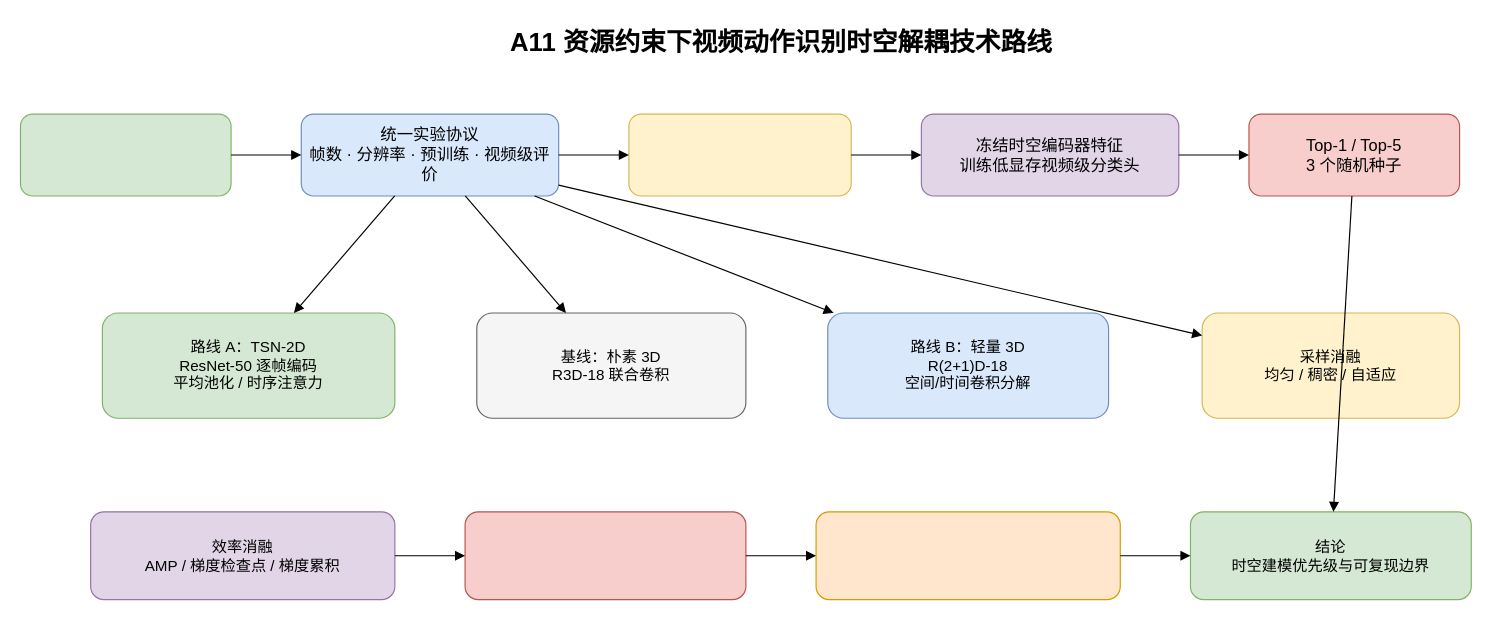
This 1492x620 diagram has some shape labels left out. Each missing label, with the centre of its shape:
2 GB 显存预检 allocated / reserved: [739,154]
UCF101 官方 split 与 group 校验: [125,154]
时间 / 空间 / 均衡 等显存预算比较: [605,555]
错误归因 101 类混淆矩阵 · 代表性错误: [967,555]
